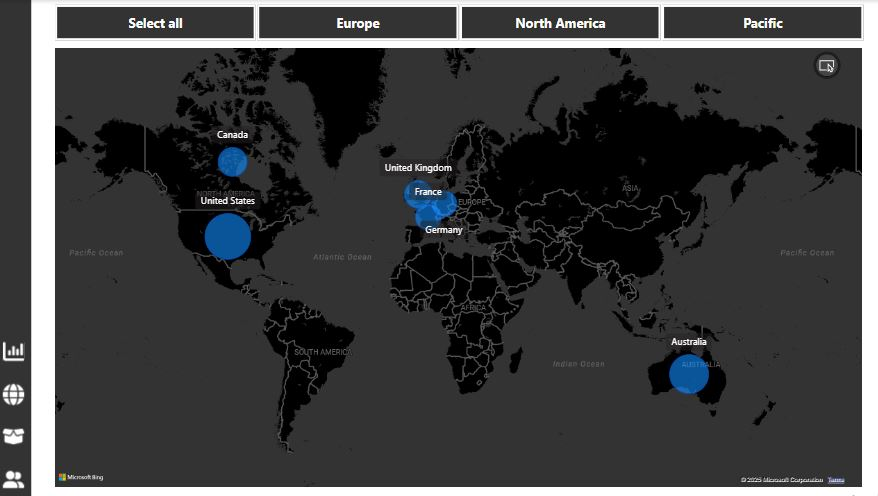

Layout of this report page (visuals, bound fields, positions):
{"tool":"powerbi","page":{"name":"Map","canvas":[1280,720],"ordinal":1},"visuals":[{"type":"shape","box":[0,0,45,720],"z":0},{"type":"map","fields":{"Category":["Territory Lookup.Country"],"Size":["Measure Table.Total Orders"]},"box":[74.9,64.8,1170.7,642.2],"z":1000},{"type":"actionButton","box":[0,486.7,67.7,38.9],"z":1000,"group":"g1"},{"type":"slicer","fields":{"Values":["Territory Lookup.Continent"]},"box":[53.3,0,1213.9,64.8],"z":2000},{"type":"actionButton","box":[0,609.6,67.7,38.9],"z":2000,"group":"g1"},{"type":"group","id":"g1","title":"Navigation Buttons","box":[0,486.7,67.7,223.2],"z":3000},{"type":"actionButton","box":[0,671,67.7,38.9],"z":3000,"group":"g1"},{"type":"actionButton","box":[0,548.1,67.7,38.9],"z":4000,"group":"g1"}]}

Visuals, with their boxes on the page's 1280x720 design canvas (x1, y1, x2, y2). These are canvas units, not pixel positions in the 878x496 screenshot, which may show the page scaled, cropped or inside an application window:
shape: 0/0/45/720
map - Territory Lookup.Country x Measure Table.Total Orders: 75/65/1246/707
actionButton: 0/487/68/526
slicer - Territory Lookup.Continent: 53/0/1267/65
actionButton: 0/610/68/648
"Navigation Buttons" group: 0/487/68/710
actionButton: 0/671/68/710
actionButton: 0/548/68/587
